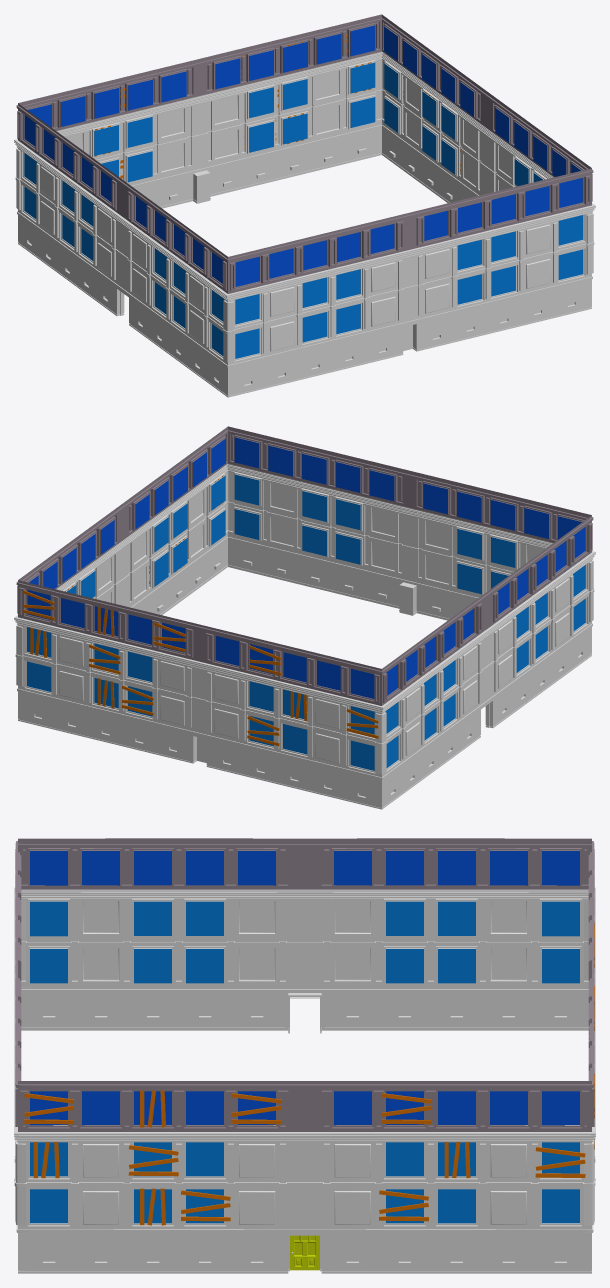
File: FBX_VerlatenGebouw.fbx
3 views of the same model, one above another, from view 1: azimuth 30°, elevation 25°; view 2: azimuth 150°, elevation 25°; view 3: azimuth 270°, elevation 25° (orthographic). The views are drawn at different scales.
Parts seen in each view (by area): view 1: Appartment_Type 2_Low, Appartment -Type 2_Top; view 2: Appartment_Type 2_Low, Appartment -Type 2_Top, VerlatenGebouwWood; view 3: Appartment_Type 2_Low, Appartment -Type 2_Top, VerlatenGebouwWood, Appartment-Type2_Door.
Part boxes in pixels (<box>): Appartment_Type 2_Low: <box>14,51,595,397</box>; Appartment -Type 2_Top: <box>16,14,593,293</box>; Appartment_Type 2_Low: <box>14,463,595,809</box>; Appartment -Type 2_Top: <box>16,426,593,705</box>; VerlatenGebouwWood: <box>22,466,378,745</box>; Appartment_Type 2_Low: <box>14,887,595,1273</box>; Appartment -Type 2_Top: <box>15,838,594,1131</box>; VerlatenGebouwWood: <box>24,923,594,1225</box>; Appartment-Type2_Door: <box>289,1235,320,1270</box>.
Bounding box in the file's own units: 28 × 10.2 × 27.98.
